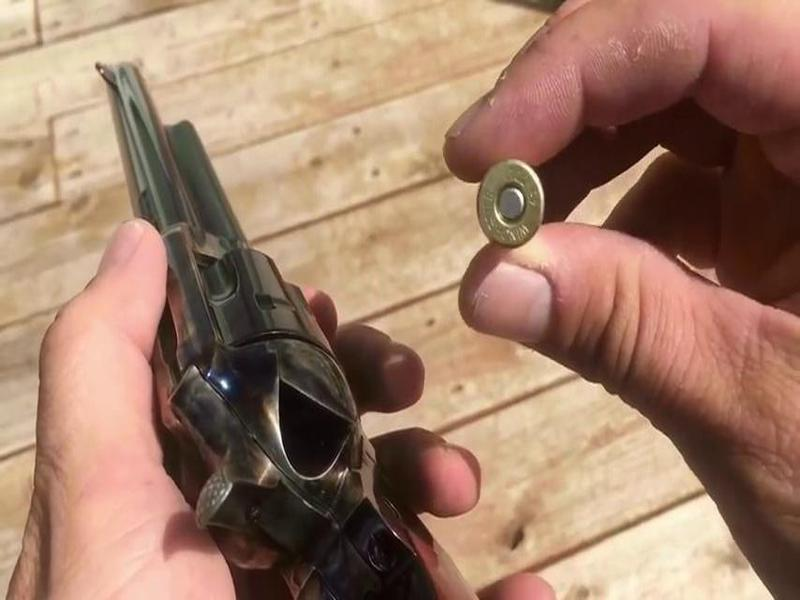Revolver: (89, 54, 384, 593)
